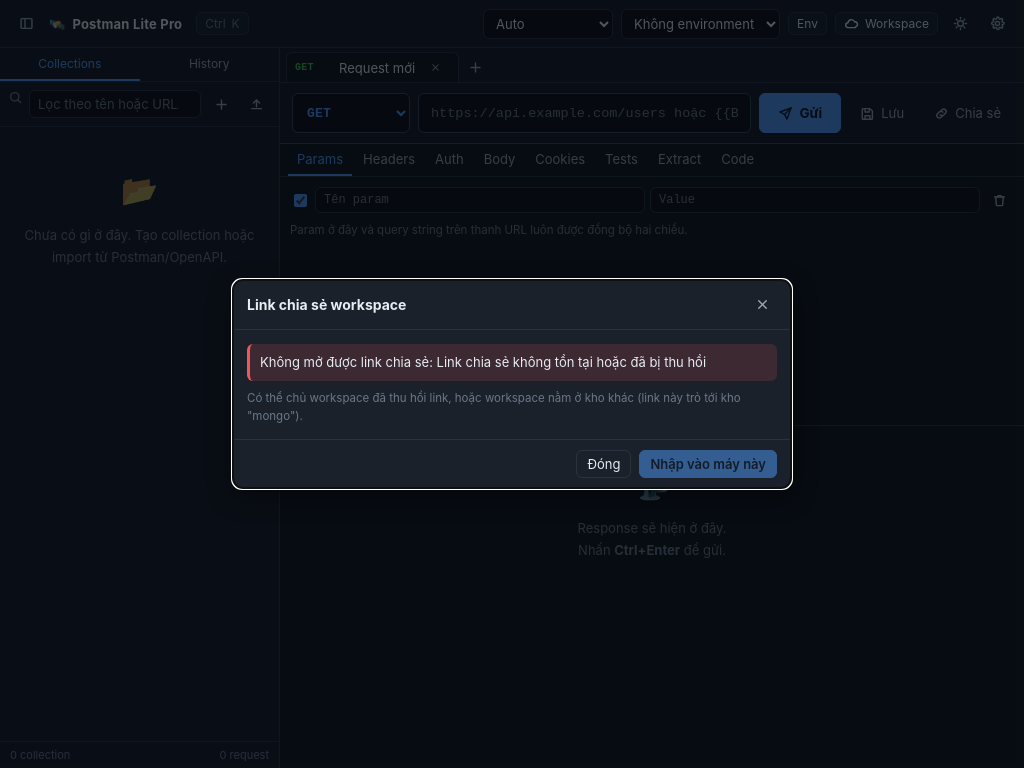
Test case: opening share links at startup › shows why a share link cannot be opened, and clears it on close
The width and height of the screenshot is (1024, 768).
Expected: the message shows "Link chia sẻ không tồn tại hoặc đã bị thu hồi", [437, 354, 706, 370]
Expected: the text "kho \"mongo\"" is shown, [247, 390, 741, 423]
Step 1. Click the button "Đóng" → (604, 464), box [576, 450, 631, 478]
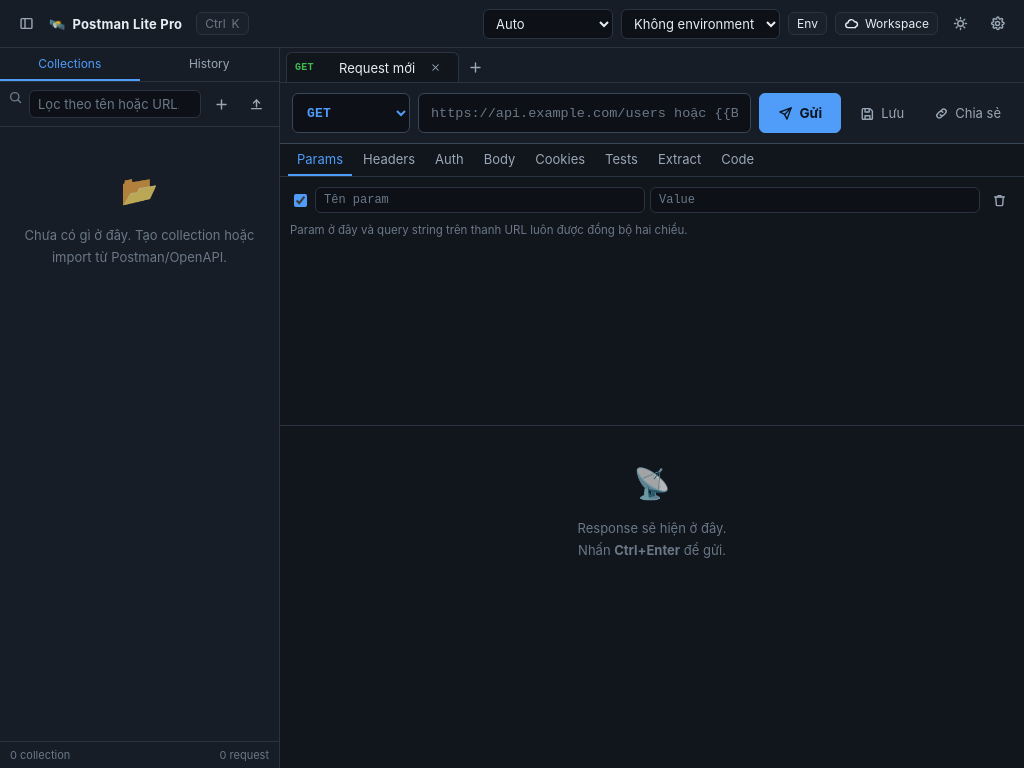
Expected: the dialog is gone
